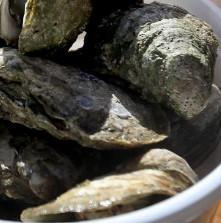3: (0, 0, 92, 54)
Oyster-Closed: (0, 47, 171, 148), (19, 151, 199, 222), (109, 2, 218, 116), (0, 120, 99, 203)
Oyster-Open: (154, 84, 221, 170), (82, 0, 143, 66)
